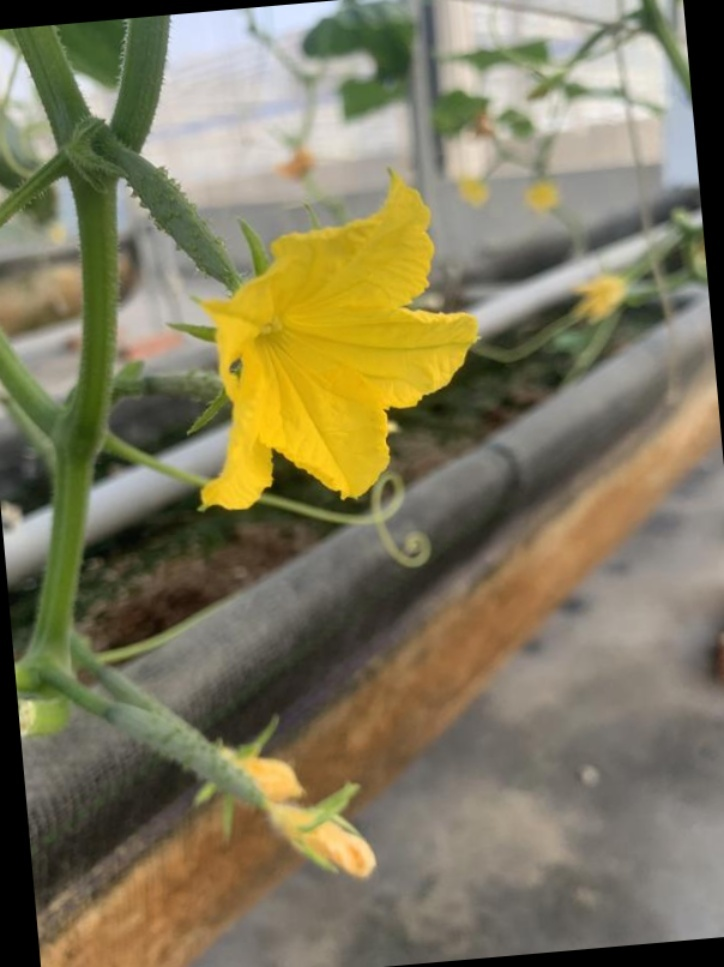bear: (95, 687, 380, 886)
flowering: (107, 128, 486, 531)
